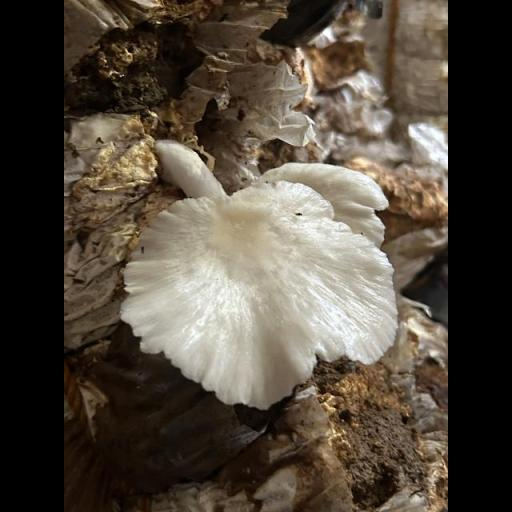White Oyster Mushroom: (114, 135, 414, 415)
